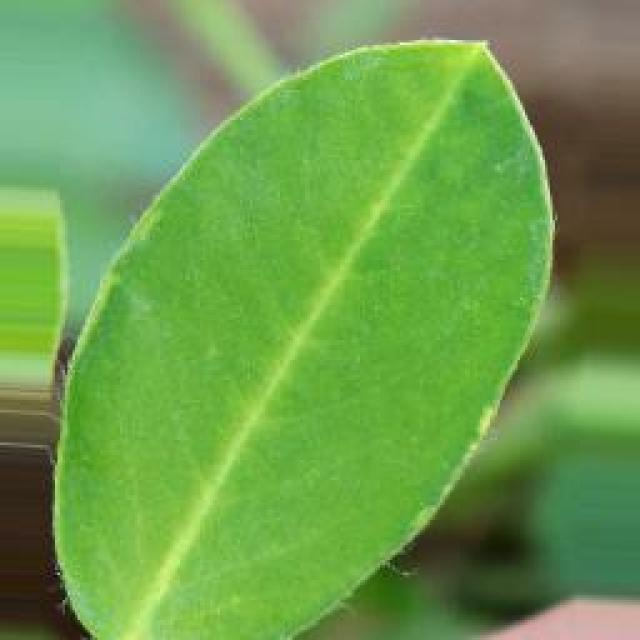Yellow_and_black_sigatoka: (35, 31, 558, 640)
